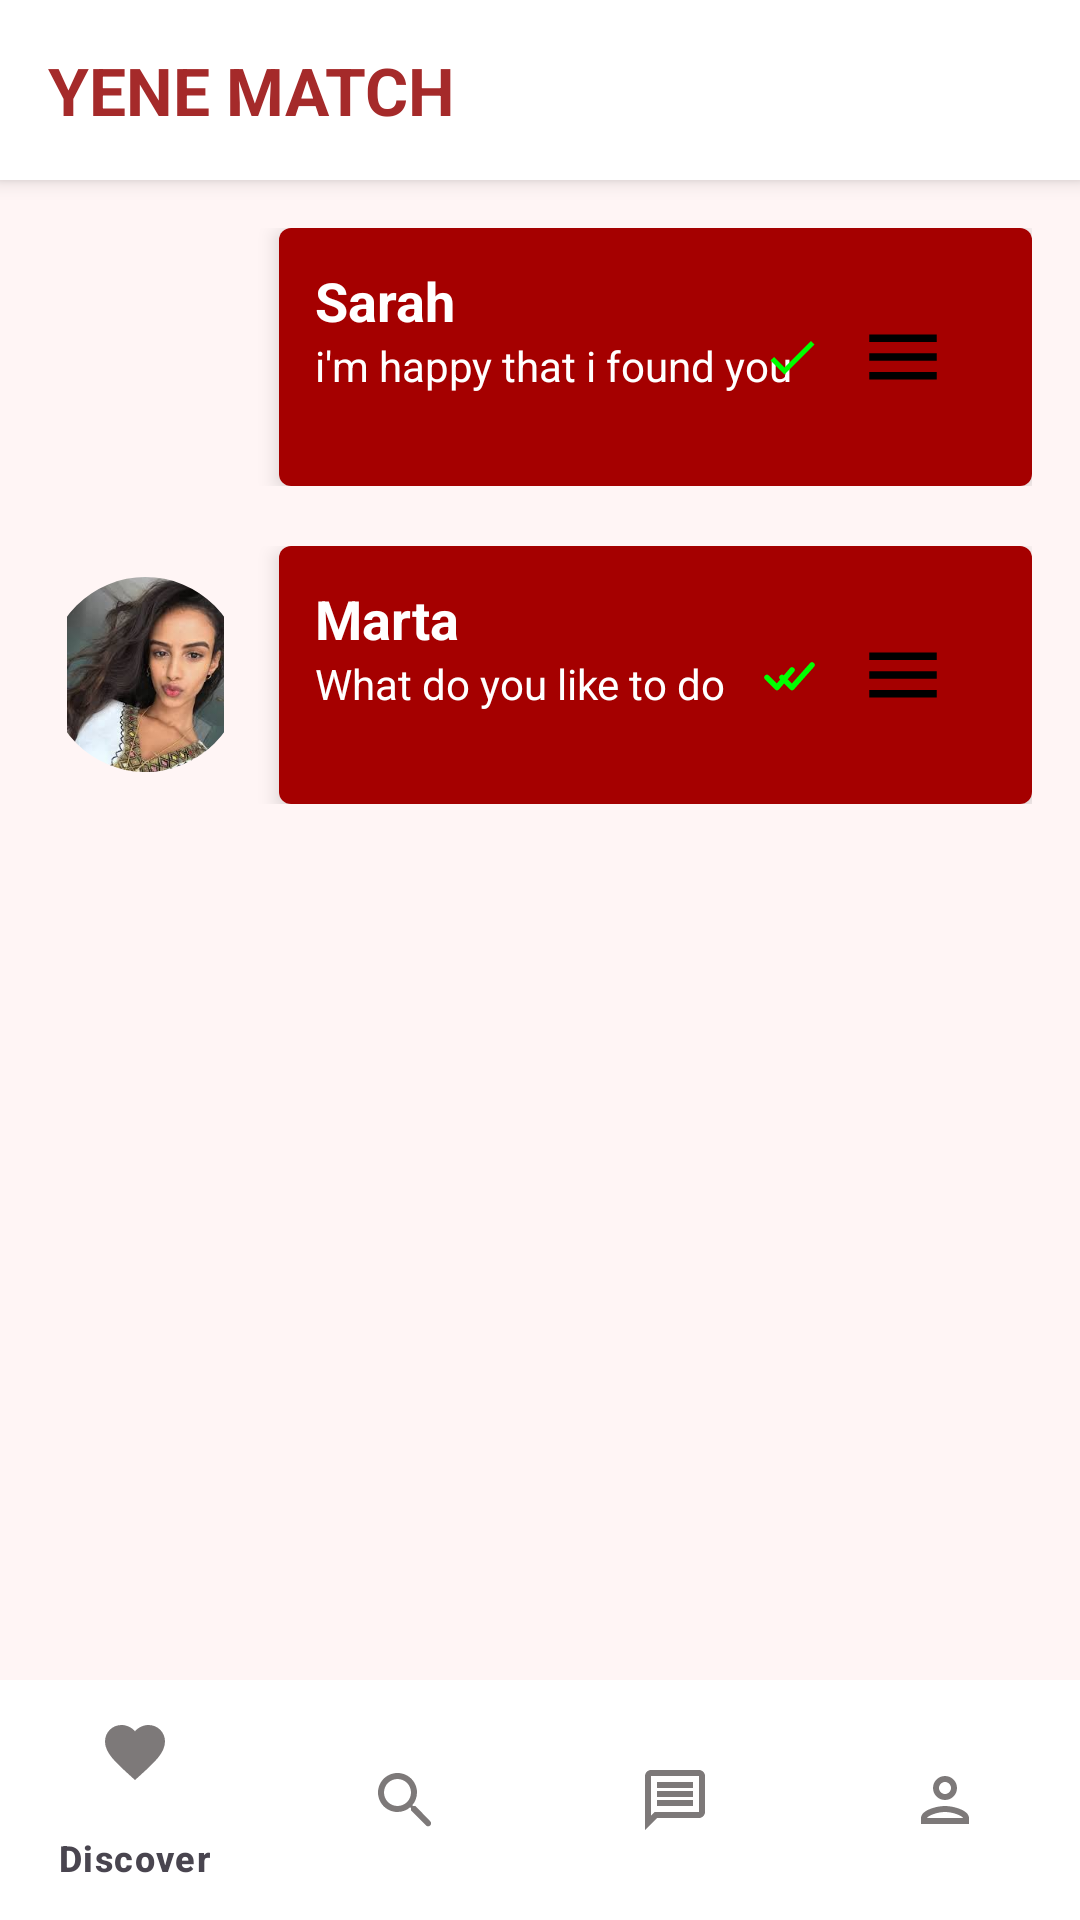

Screen size 1080*1920. Icon name, then its box in pixels as (x1, y1, x2, y2):
check: (770, 341, 815, 383)
double check: (764, 662, 815, 691)
hamburger: (869, 334, 937, 380), (869, 652, 937, 698)
